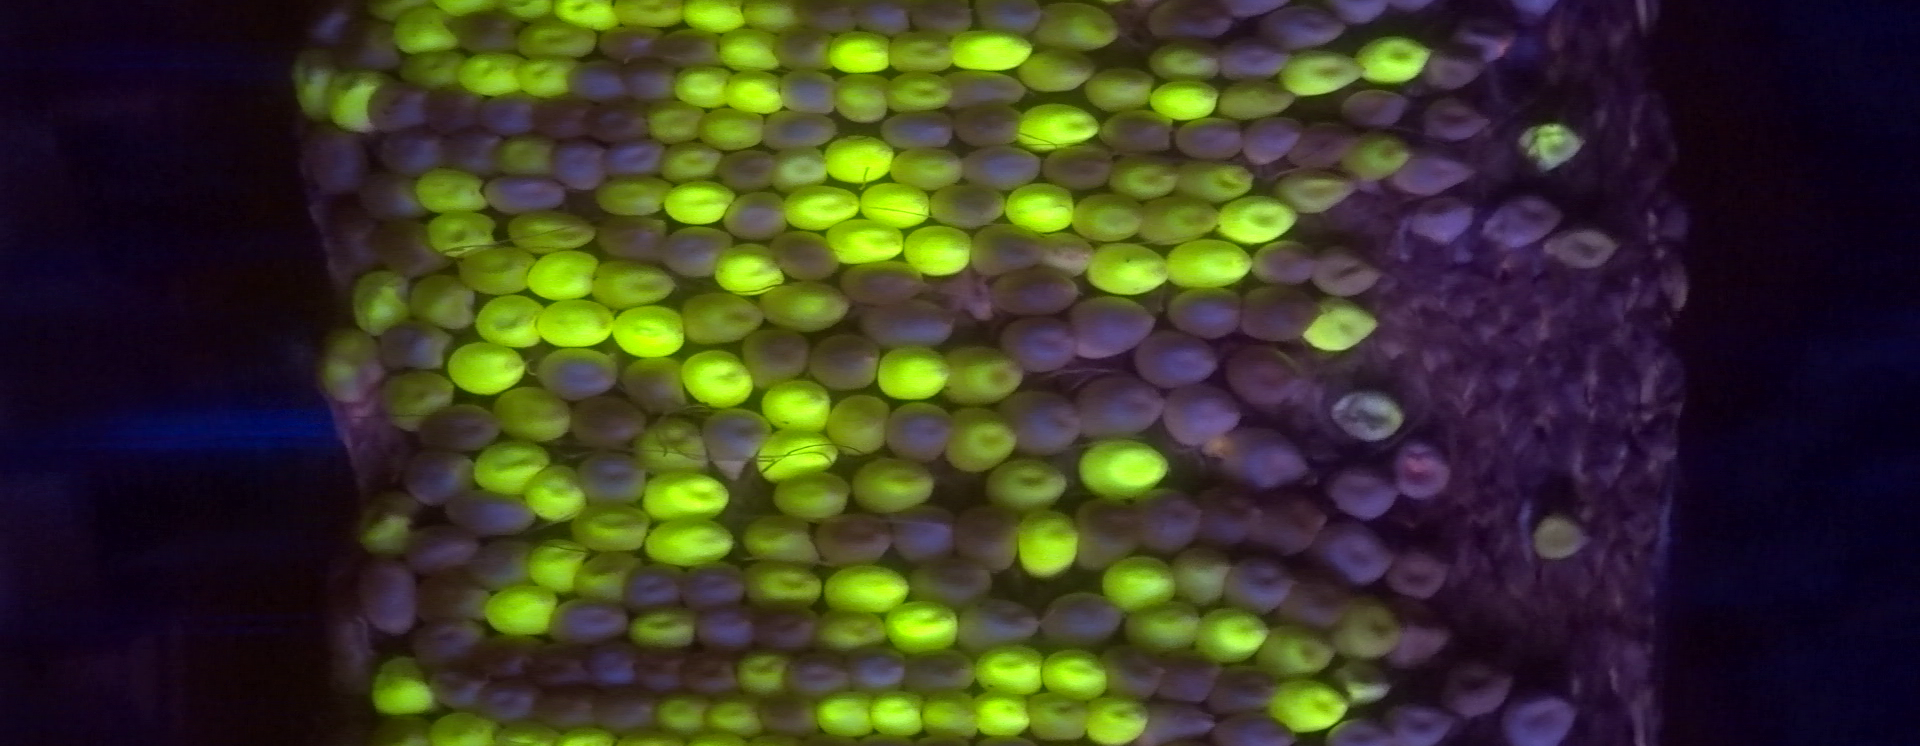fluorescent: (317, 323, 384, 408), (1510, 111, 1589, 176), (1081, 439, 1164, 500), (644, 513, 731, 566), (1163, 236, 1254, 287), (940, 348, 1021, 403), (1011, 511, 1078, 578), (1338, 595, 1407, 660), (741, 556, 823, 610), (760, 283, 851, 331), (1329, 387, 1404, 443), (1527, 503, 1592, 568), (639, 414, 710, 473), (1087, 240, 1164, 294), (353, 488, 416, 552), (470, 443, 553, 492), (948, 412, 1015, 472), (853, 459, 932, 511), (591, 258, 673, 307), (888, 599, 958, 657), (613, 306, 687, 360), (1271, 677, 1344, 731), (1280, 47, 1367, 92), (678, 353, 753, 405), (983, 463, 1068, 510), (508, 207, 596, 251), (1015, 105, 1098, 152), (823, 566, 906, 612), (1303, 298, 1376, 350), (1198, 608, 1267, 663), (1260, 622, 1330, 677), (1035, 6, 1119, 51), (1220, 192, 1296, 243), (684, 295, 762, 344), (446, 341, 520, 391), (481, 587, 556, 637), (535, 299, 613, 347), (902, 224, 973, 277), (1135, 197, 1220, 241), (645, 472, 727, 517), (760, 380, 833, 431), (1213, 76, 1293, 122), (452, 251, 538, 294), (752, 436, 838, 479), (1016, 45, 1100, 89), (742, 514, 817, 563), (1100, 559, 1174, 608), (496, 388, 568, 439), (878, 348, 949, 398), (1356, 38, 1431, 85), (716, 244, 785, 295), (328, 69, 382, 134), (288, 48, 340, 114), (1128, 603, 1199, 652), (427, 209, 495, 261), (529, 250, 596, 301), (474, 296, 542, 347), (660, 180, 735, 225), (369, 657, 432, 709), (973, 646, 1043, 693), (1082, 66, 1156, 111), (944, 29, 1029, 69), (824, 219, 901, 262), (1073, 196, 1142, 243), (782, 187, 856, 232), (834, 394, 887, 456), (389, 7, 456, 55), (1009, 184, 1070, 235), (411, 276, 473, 327), (823, 136, 891, 181), (1152, 75, 1223, 118), (571, 506, 648, 545), (1352, 134, 1412, 184), (517, 22, 598, 59), (353, 273, 405, 330), (528, 540, 585, 592), (1273, 164, 1340, 208), (462, 50, 524, 97), (862, 183, 924, 229), (884, 29, 951, 72), (1043, 655, 1107, 701), (724, 65, 785, 111), (574, 555, 636, 601), (1149, 40, 1218, 81), (381, 376, 451, 416), (814, 690, 872, 739), (887, 67, 950, 111), (1112, 156, 1176, 200), (415, 165, 480, 208), (527, 470, 588, 516), (775, 479, 847, 517), (1022, 692, 1086, 735), (1085, 698, 1149, 741), (891, 149, 962, 187), (866, 688, 923, 735), (828, 29, 888, 73), (836, 73, 888, 125), (590, 176, 667, 211), (1180, 160, 1245, 201), (813, 612, 887, 648), (1336, 661, 1393, 707), (920, 696, 976, 740), (716, 28, 779, 67), (516, 58, 576, 98), (973, 691, 1031, 733), (655, 690, 707, 735), (702, 110, 764, 146), (675, 67, 729, 108), (662, 143, 721, 180), (631, 612, 696, 646), (407, 53, 467, 88), (771, 148, 827, 186), (496, 134, 551, 170), (742, 652, 789, 695), (651, 100, 700, 140), (433, 713, 492, 744), (709, 698, 756, 734), (497, 719, 558, 746), (617, 1, 681, 27), (553, 1, 613, 28), (744, 2, 798, 29), (684, 1, 740, 27), (432, 1, 495, 18), (503, 1, 552, 20)
nonfluorescent: (1069, 295, 1160, 361), (1213, 424, 1309, 485), (1078, 376, 1162, 441), (1223, 345, 1308, 407), (1134, 485, 1202, 557), (1074, 495, 1136, 573), (697, 405, 769, 473), (1240, 282, 1321, 342), (888, 499, 962, 563), (860, 299, 958, 348), (1038, 589, 1122, 646), (1164, 383, 1238, 447), (989, 266, 1084, 315), (1033, 138, 1117, 194), (882, 401, 956, 462), (951, 597, 1040, 648), (953, 501, 1016, 572), (328, 588, 371, 693), (356, 557, 418, 631), (1004, 393, 1078, 453), (1251, 490, 1325, 549), (442, 490, 531, 538), (813, 332, 884, 392), (1003, 315, 1074, 374), (1319, 523, 1385, 586), (304, 125, 364, 194), (1254, 9, 1349, 51), (535, 352, 622, 398), (567, 398, 645, 450), (1139, 332, 1216, 383), (375, 320, 448, 374), (481, 171, 571, 216), (372, 217, 442, 273), (1330, 465, 1400, 522), (415, 402, 497, 450), (1403, 198, 1476, 252), (574, 450, 647, 503), (591, 214, 666, 266), (402, 448, 473, 502), (1489, 191, 1554, 250), (1543, 225, 1622, 273), (1417, 96, 1494, 145), (1166, 285, 1240, 336), (1229, 554, 1291, 615), (1198, 486, 1258, 549), (464, 538, 534, 590), (550, 595, 631, 641), (744, 328, 811, 383), (1213, 663, 1280, 718), (1396, 439, 1452, 502), (818, 510, 883, 565), (909, 559, 992, 601), (584, 682, 655, 733), (662, 225, 729, 279), (1142, 1, 1233, 40), (622, 360, 691, 412), (841, 262, 928, 303), (725, 187, 789, 243), (1311, 247, 1382, 296), (414, 575, 489, 621), (1400, 606, 1451, 674), (945, 69, 1030, 109), (770, 232, 841, 279), (1455, 10, 1517, 64), (927, 183, 1007, 224), (1106, 646, 1164, 702), (954, 102, 1025, 148), (1292, 122, 1359, 171), (1506, 699, 1578, 745), (411, 621, 482, 666), (847, 643, 915, 691), (1284, 578, 1347, 630), (1141, 702, 1213, 746), (1240, 114, 1305, 163), (451, 11, 520, 56), (966, 145, 1040, 187), (970, 224, 1037, 271), (479, 89, 542, 138), (787, 649, 852, 697), (370, 82, 430, 134), (1445, 661, 1505, 713), (751, 601, 817, 648), (763, 109, 840, 148), (426, 661, 486, 712), (1251, 240, 1318, 285), (1384, 550, 1450, 595), (1174, 118, 1242, 162), (404, 524, 471, 568), (1398, 156, 1476, 194), (627, 562, 684, 612), (328, 214, 373, 278), (538, 94, 596, 143), (880, 111, 951, 152), (376, 127, 441, 171), (1340, 85, 1408, 126), (345, 18, 398, 72), (1164, 649, 1217, 703), (605, 140, 671, 183), (587, 100, 650, 145), (531, 684, 590, 731), (1104, 111, 1172, 153), (905, 650, 978, 688), (632, 647, 688, 696), (1212, 713, 1296, 746), (440, 125, 491, 178), (682, 561, 744, 604), (427, 85, 479, 136), (358, 170, 418, 214), (1387, 707, 1455, 746), (1220, 38, 1284, 78), (569, 59, 629, 102), (718, 151, 780, 191), (753, 695, 822, 731), (782, 72, 838, 118), (1423, 49, 1484, 89), (692, 606, 749, 649), (557, 140, 610, 186), (776, 29, 831, 73), (683, 657, 744, 696), (482, 632, 535, 677), (595, 22, 655, 61), (478, 682, 538, 722), (973, 1, 1040, 37), (590, 643, 638, 688), (655, 34, 718, 69), (302, 2, 348, 48), (629, 61, 680, 102), (912, 1, 973, 34), (856, 1, 915, 34), (540, 641, 587, 682), (795, 1, 852, 34), (1325, 719, 1391, 746)
